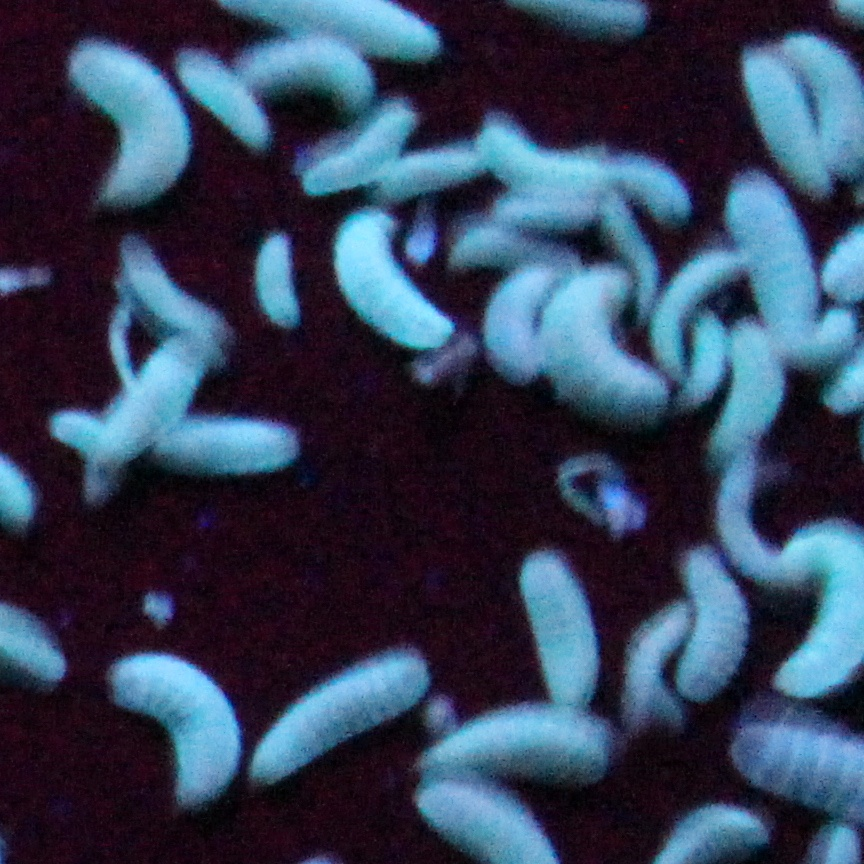larve: (248, 647, 432, 784), (63, 28, 194, 217), (538, 267, 671, 428), (107, 647, 238, 809), (723, 176, 827, 361), (332, 207, 457, 342), (738, 40, 832, 203), (94, 336, 215, 457), (417, 709, 615, 782), (705, 461, 815, 588), (519, 547, 605, 709), (644, 249, 744, 386), (117, 236, 230, 347), (482, 115, 617, 201), (177, 44, 277, 155), (705, 322, 780, 469), (240, 36, 375, 115), (680, 549, 746, 705), (623, 597, 696, 732), (305, 103, 415, 186), (159, 419, 302, 476), (488, 261, 552, 380), (52, 413, 117, 509), (373, 144, 486, 199), (611, 153, 700, 222), (255, 234, 307, 328), (682, 309, 727, 411), (492, 197, 605, 222)
